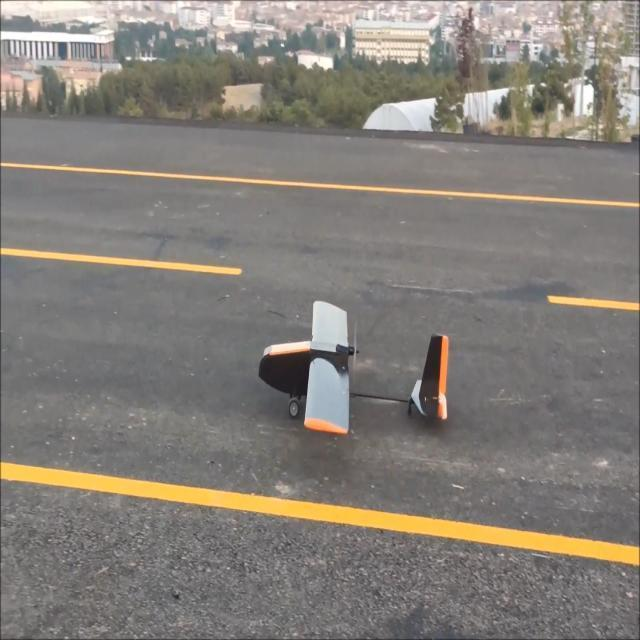UAV: (274, 304, 399, 428)
